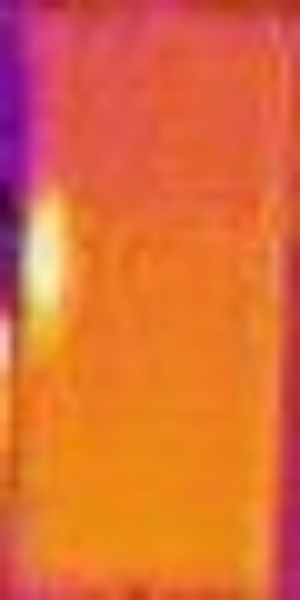Hotspot: (14, 173, 74, 336)
